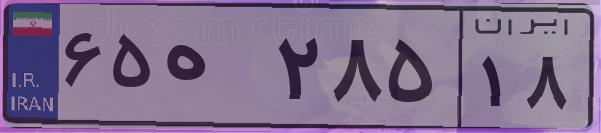1: (475, 38, 525, 113)
2: (270, 28, 330, 110)
5: (385, 28, 445, 110), (110, 28, 158, 98)
6: (57, 26, 110, 100)
8: (330, 28, 385, 110), (525, 38, 570, 115)
ه: (158, 20, 270, 120)
